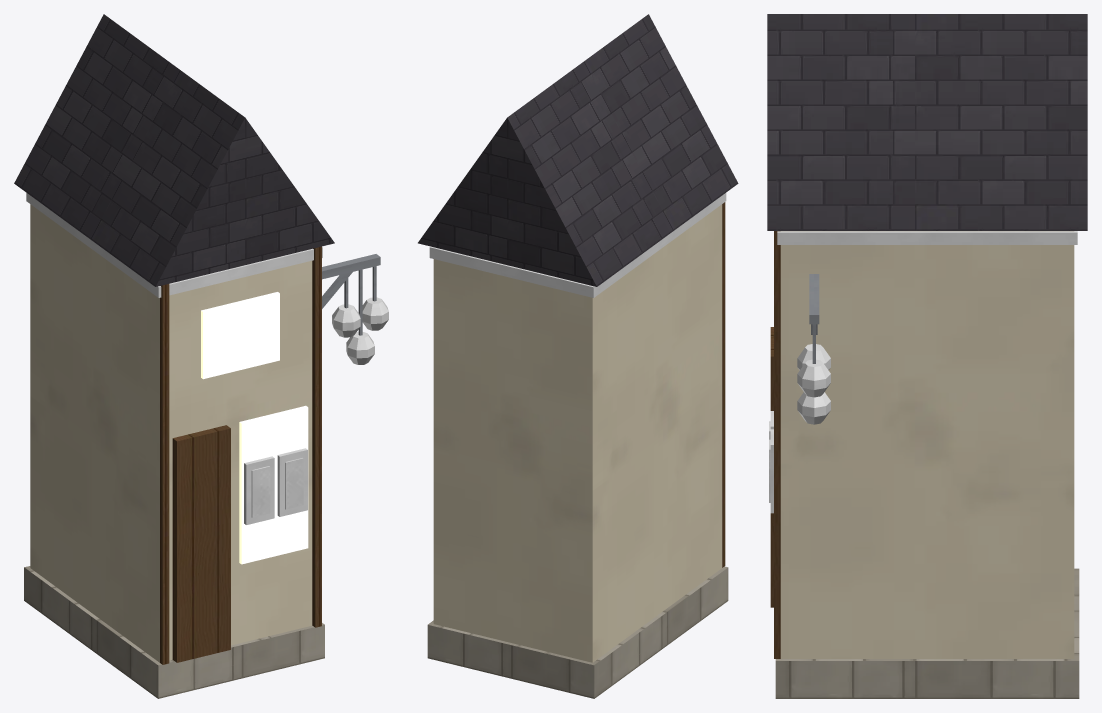
File: protocol.gondi.glb
The picture shows the model from 3 angles, left to right: view 1: azimuth 30°, elevation 25°; view 2: azimuth 150°, elevation 25°; view 3: azimuth 270°, elevation 25°; orthographic projection. The views are drawn at different scales.
Parts seen in each view (by area): view 1: building.protocol.gondi; view 2: building.protocol.gondi; view 3: building.protocol.gondi.
Boxes of the visible parts, bbox=[...] form: building.protocol.gondi: bbox=[14, 14, 388, 698]; building.protocol.gondi: bbox=[418, 14, 738, 698]; building.protocol.gondi: bbox=[767, 14, 1087, 698].
Bounding box in the file's own units: 1.97 × 4.2 × 1.91.
Materials: 8 (7 with a texture image).
